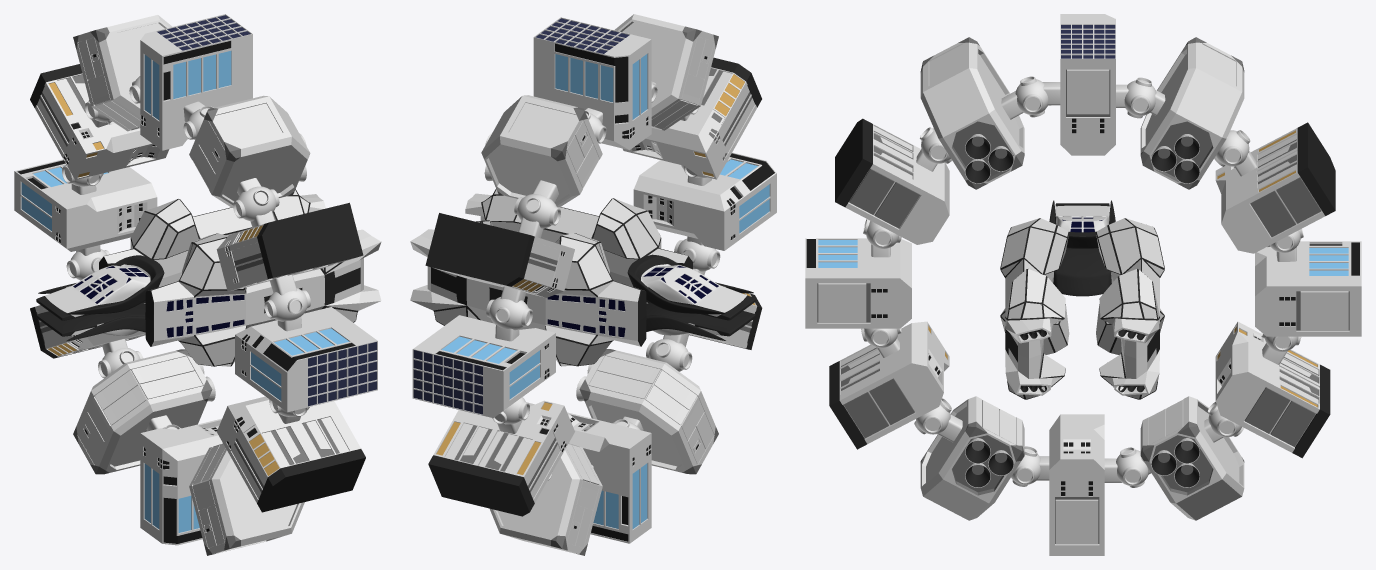
The model's file is space-craft.gltf.
3 renders of one model, left to right at view 1: azimuth 30°, elevation 25°; view 2: azimuth 150°, elevation 25°; view 3: azimuth 270°, elevation 25°, orthographic.
Parts seen in each view (by area): view 1: livingmodule.001, Plane.005, populationBOMB.004, powermodule.001, powermodule.003, populationBOMB.003, populationBOMB.002, Plane.002, powermodule.004, powermodule.002, populationBOMB.001, Sphere.009 (+4 smaller); view 2: livingmodule.001, Plane.005, populationBOMB.001, powermodule.004, powermodule.002, populationBOMB.002, populationBOMB.003, Plane.002, powermodule.001, powermodule.003, Sphere.005, Sphere.006 (+4 smaller); view 3: livingmodule.001, Plane.005, populationBOMB.002, populationBOMB.001, populationBOMB.003, populationBOMB.004, powermodule.002, powermodule.003, powermodule.004, powermodule.001, Plane.002, Cone.003 (+12 smaller).
Part boxes in pixels (x1,y1,x2,y2): livingmodule.001: (14,14,377,545); Plane.005: (99,189,381,366); populationBOMB.004: (217,396,365,512); powermodule.001: (73,349,212,474); powermodule.003: (189,95,310,207); populationBOMB.003: (216,202,363,291); populationBOMB.002: (30,64,169,179); Plane.002: (36,255,164,341); powermodule.004: (189,443,304,555); powermodule.002: (73,15,172,131); populationBOMB.001: (30,305,145,358); Sphere.009: (233,186,279,221); livingmodule.001: (412,17,776,543); Plane.005: (410,189,692,366); populationBOMB.001: (428,400,574,516); powermodule.004: (579,349,718,474); powermodule.002: (481,95,602,207); populationBOMB.002: (425,213,574,297); populationBOMB.003: (623,57,761,179); Plane.002: (627,254,755,340); powermodule.001: (490,443,602,555); powermodule.003: (614,14,718,130); Sphere.005: (486,297,532,330); Sphere.006: (514,194,560,228); livingmodule.001: (805,14,1361,555); Plane.005: (1000,218,1164,399); populationBOMB.002: (1215,122,1335,253); populationBOMB.001: (1215,321,1330,458); populationBOMB.003: (835,118,949,244); populationBOMB.004: (829,321,949,449); powermodule.002: (1140,37,1244,189); powermodule.003: (920,37,1024,189); powermodule.004: (920,396,1024,520); powermodule.001: (1140,396,1244,520); Plane.002: (1049,200,1115,296); Cone.003: (1151,134,1199,183).
Size of the model in its own units: 13.24 by 20.58 by 20.87.
